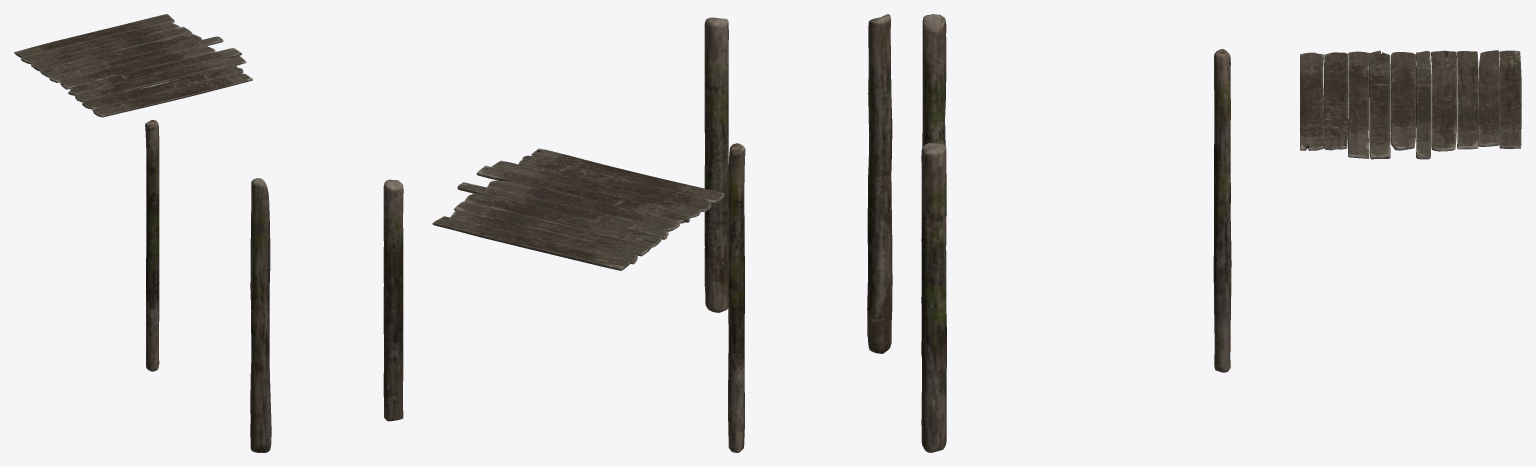
Rendered from modular_wooden_pier.glb.
3 renders of one model, left to right at view 1: azimuth 30°, elevation 25°; view 2: azimuth 150°, elevation 25°; view 3: azimuth 270°, elevation 25°, orthographic. The views are drawn at different scales.
Visible parts, largest first — view 1: modular_wooden_pier_planks, modular_wooden_pier_poles; view 2: modular_wooden_pier_planks, modular_wooden_pier_poles; view 3: modular_wooden_pier_planks, modular_wooden_pier_poles.
Part boxes in pixels (x1,y1,x2,y2): modular_wooden_pier_planks: (14, 14, 252, 117); modular_wooden_pier_poles: (145, 120, 403, 452); modular_wooden_pier_planks: (432, 148, 724, 270); modular_wooden_pier_poles: (704, 14, 892, 452); modular_wooden_pier_planks: (1300, 50, 1521, 159); modular_wooden_pier_poles: (921, 14, 1231, 452).
Bounding box in the file's own units: 2.52 × 3.85 × 5.96.
2 materials, 2 textured.
